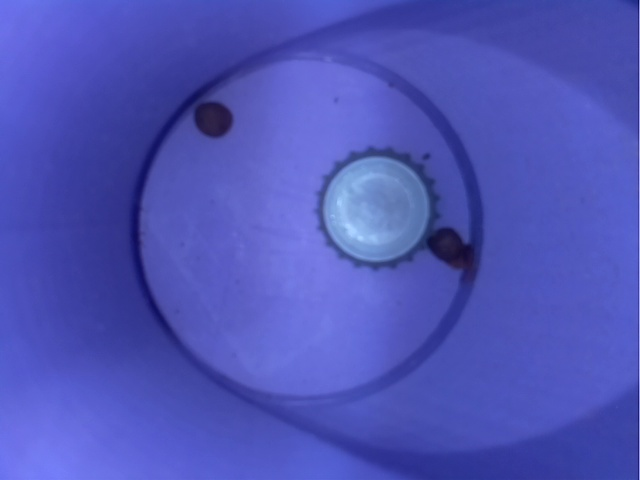capsule: (309, 133, 447, 283)
croquette: (181, 87, 237, 155), (425, 224, 477, 276)
